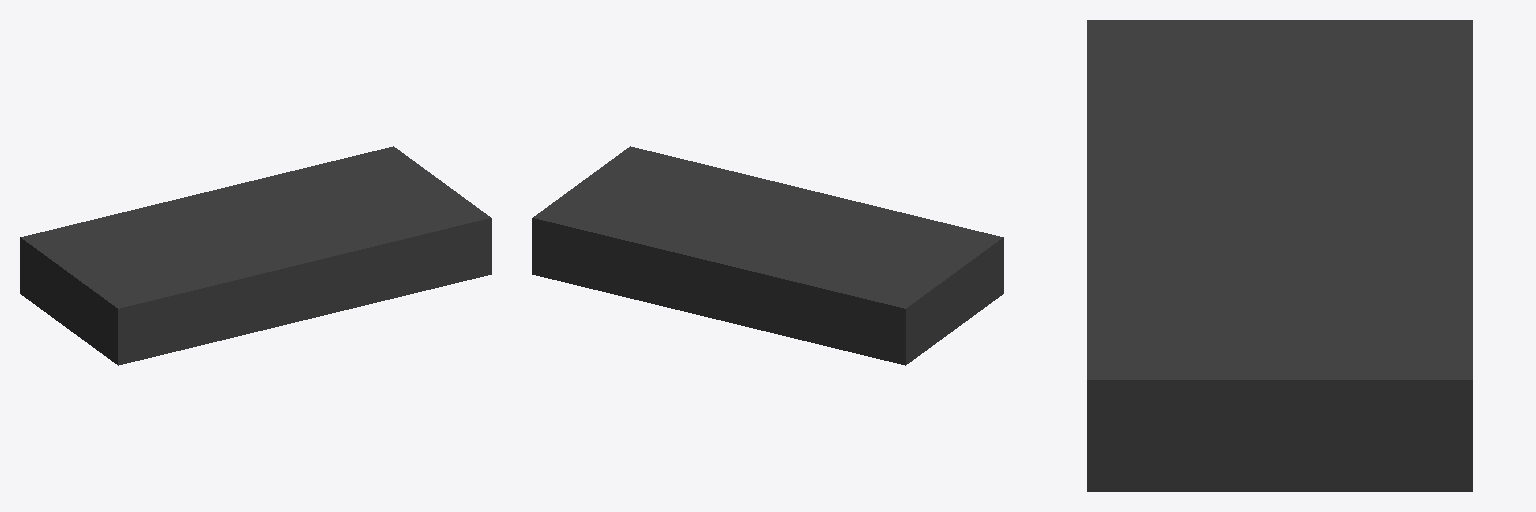
robot.urdf — box.urdf:
<?xml version="1.0" ?>
<robot name="box.urdf">
  <link name="baseLink">
    <contact>
      <lateral_friction value="1.0"/>
      <rolling_friction value="0.0001"/>
      <inertia_scaling value="3.0"/>
    </contact>
    <inertial>
      <origin rpy="0 0 0" xyz="0 0 0"/>
       <mass value="0.1"/>
       <inertia ixx="1" ixy="0" ixz="0" iyy="1" iyz="0" izz="1"/>
    </inertial>
    <visual>
      <origin rpy="0 0 0" xyz="0 0 0"/>
      <geometry>
        <!-- <box size="0.86 0.39 0.125"/> -->
        <mesh filename="box/box.obj" scale="0.86 0.39 0.125"/>
      </geometry>
      <material name="white">
        <color rgba="0.3 0.3 0.3 1"/>
      </material>
    </visual>
    <collision>
      <origin rpy="0 0 0" xyz="0 0 0"/>
      <geometry>
        <mesh filename="box/box.obj" scale="0.86 0.39 0.125"/>
	 	    <!-- <box size="0.86 0.39 0.125"/> -->
      </geometry>
    </collision>
  </link>
</robot>

--- Render facts (derived) ---
Views: 3 orthographic renders of the robot side by side, from view 1: azimuth 30°, elevation 25°; view 2: azimuth 150°, elevation 25°; view 3: azimuth 270°, elevation 25°.
Model box.urdf with 1 links and 0 joints (none), rooted at baseLink, posed every joint at zero.
Visible links, largest first — view 1: baseLink; view 2: baseLink; view 3: baseLink.
Boxes of the visible links, x1,y1,x2,y2 form: baseLink: (20,146,491,365); baseLink: (532,146,1003,365); baseLink: (1087,20,1472,491).
Size in the robot's own frame: 0.86 by 0.39 by 0.125 metres.
Meshes: 1 distinct files referenced, 1 mesh visuals loaded (1 OBJ).
